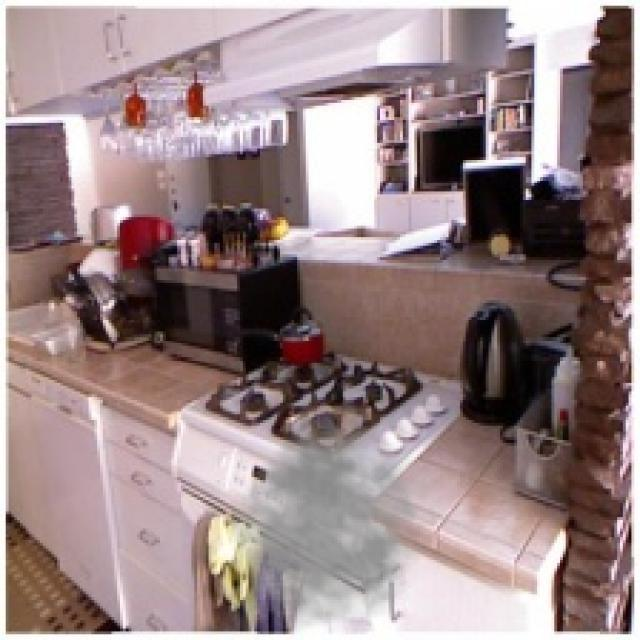Smoke: (228, 406, 443, 634)
